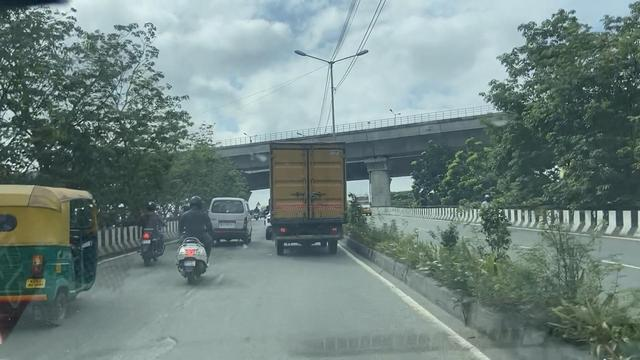HMV: (269, 143, 346, 251)
LMV: (0, 191, 103, 324), (174, 198, 209, 284), (132, 200, 160, 262)
RoadDamages: (131, 328, 192, 360)
